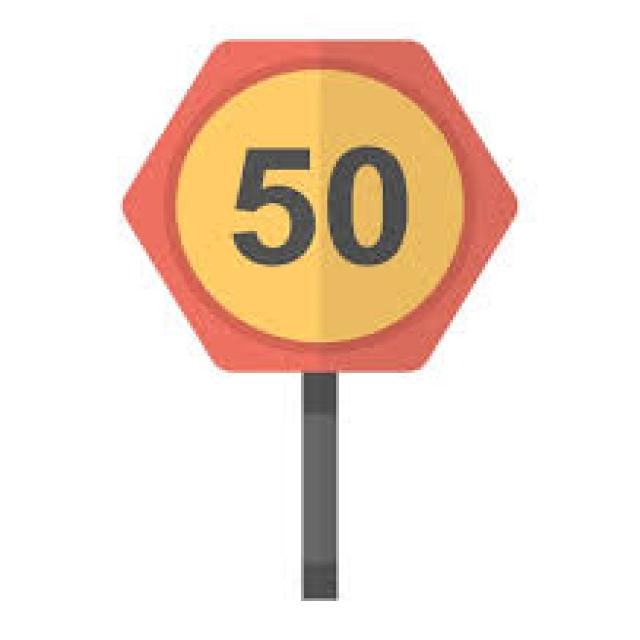Speed limit 50: (118, 34, 521, 377)
